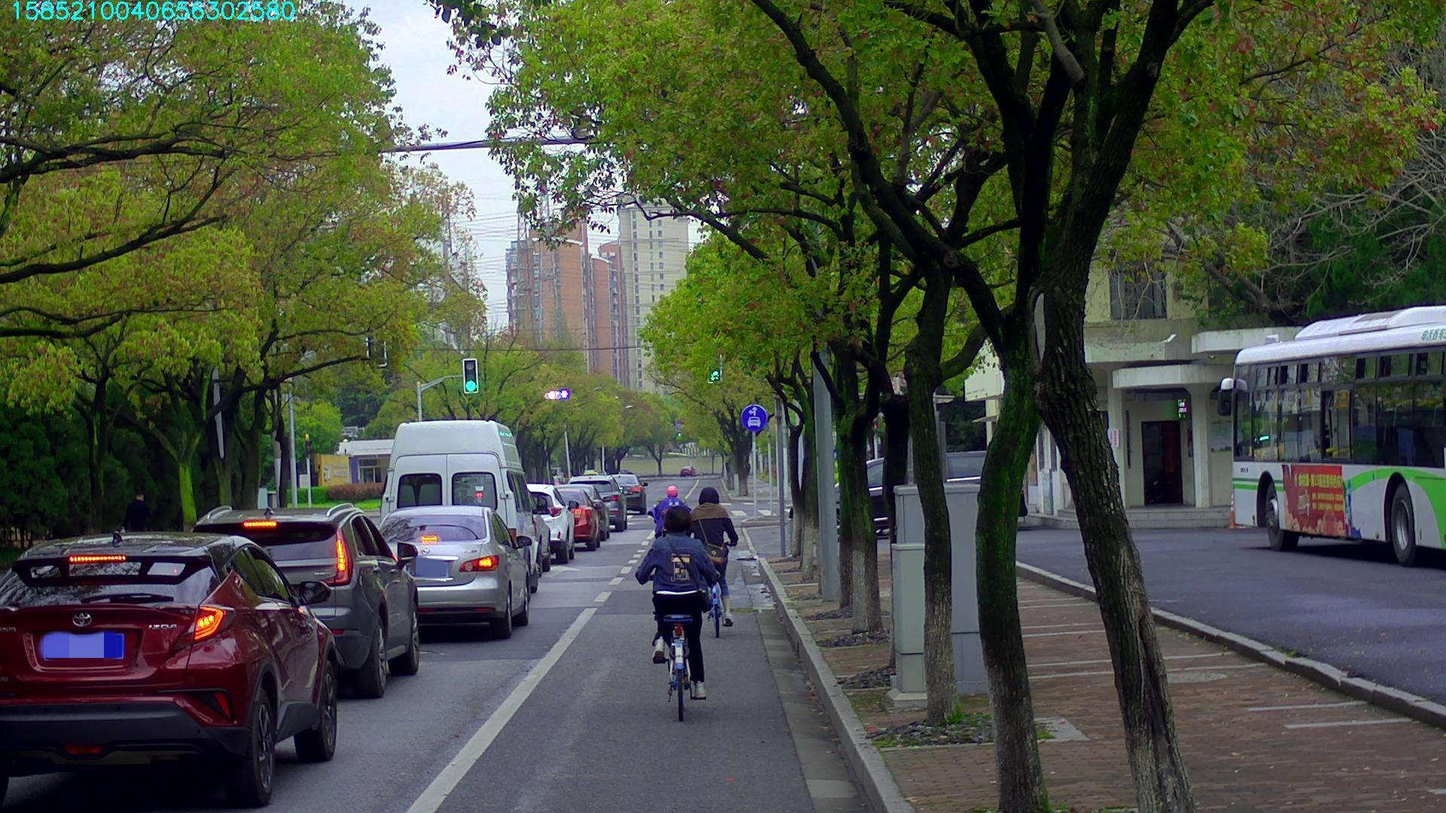green: (463, 358, 477, 391), (708, 352, 720, 382)
